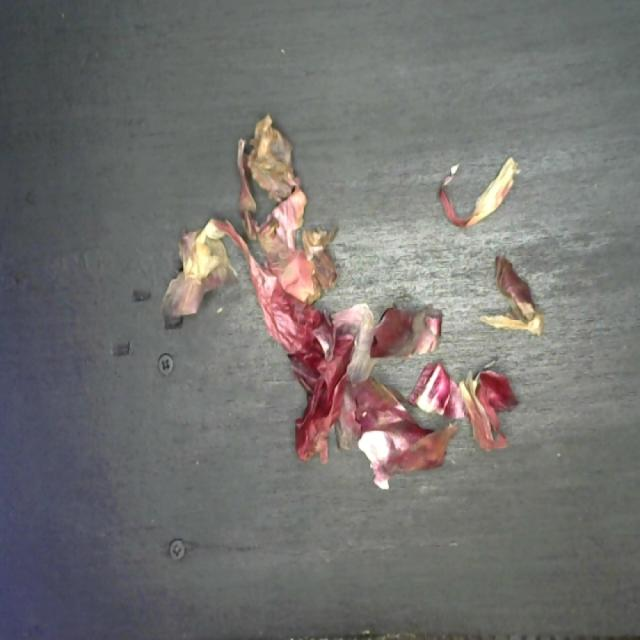biodegradable: (159, 110, 544, 491)
